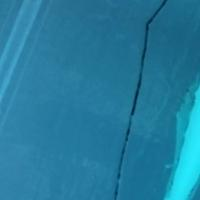crack: (88, 0, 184, 199)
